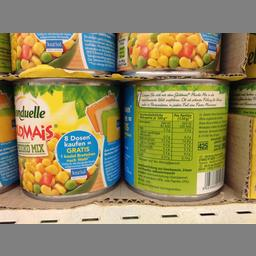corn: (10, 76, 122, 202), (119, 79, 230, 199)
